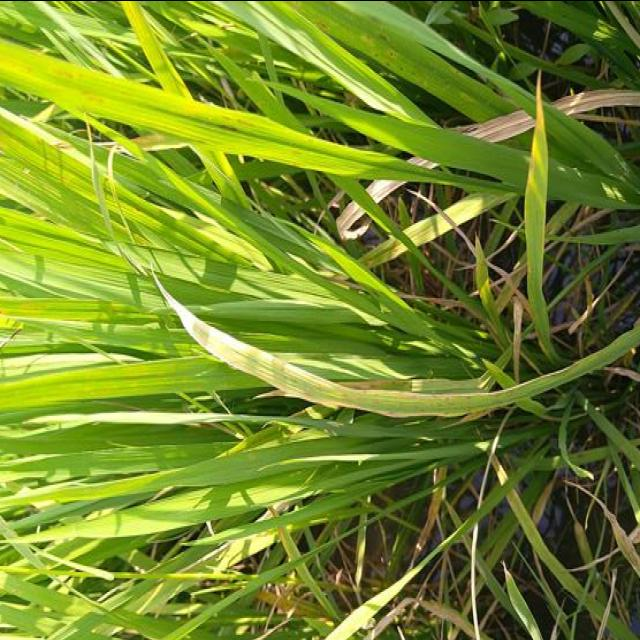Leaf Blight: (161, 285, 609, 415)
